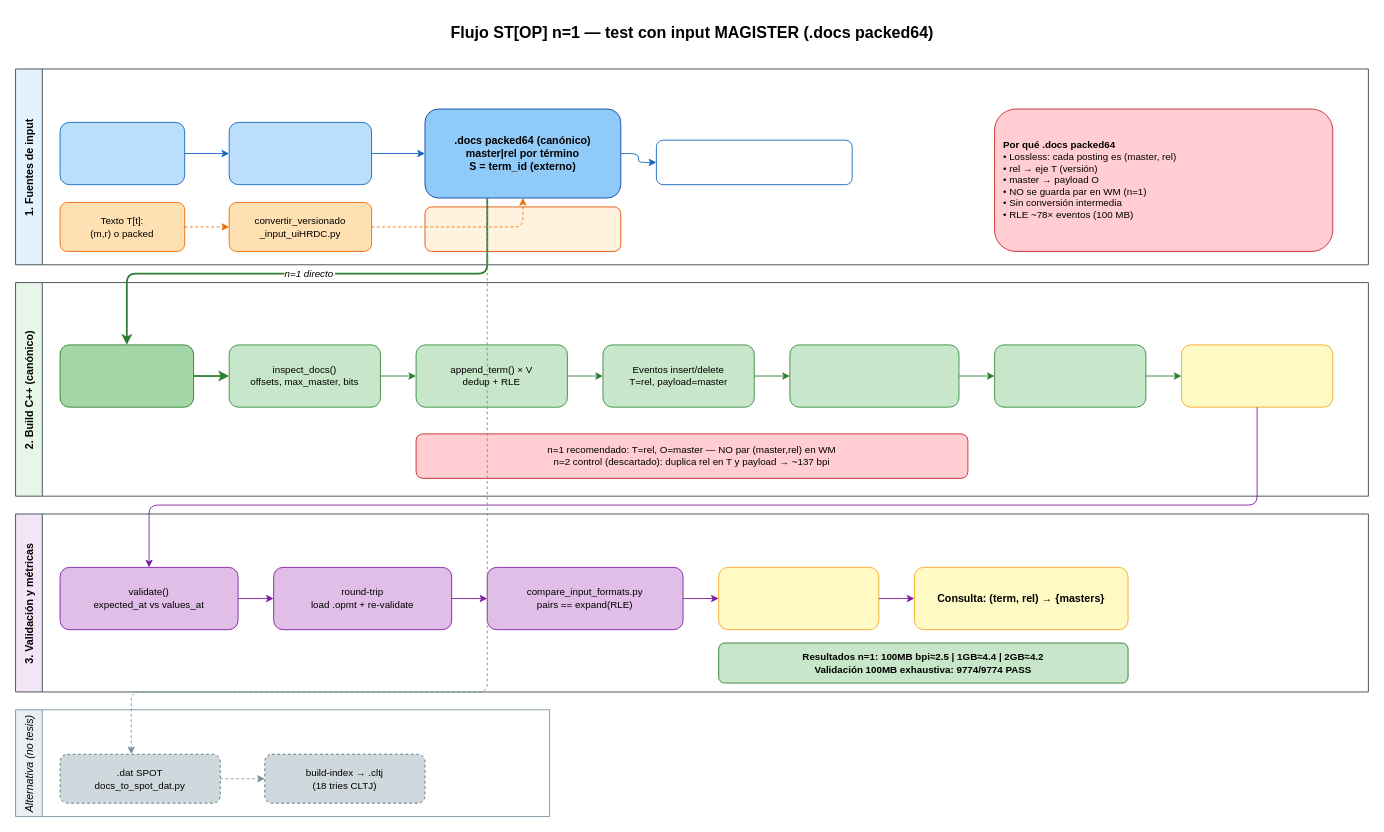
Image size: 1384x832. Some labels were removed from this diagram. Each missing label, with the box of its shape:
BPI + CSV bytes×8 / n_raw: (718, 566, 879, 630)
build-versioned-op CLI (n=1): (59, 344, 194, 407)
export / pipeline uiHRDC: (228, 121, 372, 185)
Formato: uint32 nlists + (uint32 len, uint64[len]): (424, 206, 621, 251)
serialize → .opmt: (1181, 344, 1333, 407)
temporal_wm VBT B/E (SDSL): (994, 344, 1146, 407)
term_index::build() m_times + m_last_update: (789, 344, 959, 407)
uiHRDC Wikipedia: (59, 121, 185, 185)
unpack: master = packed >> 24 rel = packed & 0xFFFFFF: (655, 139, 852, 185)
